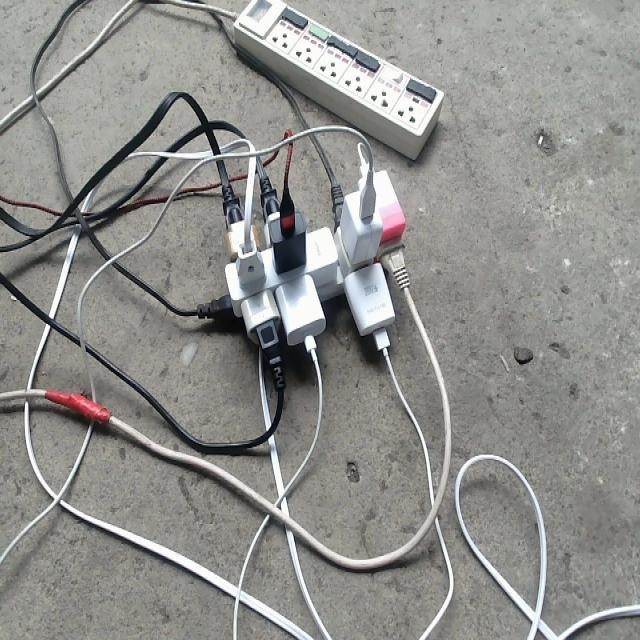-: (213, 158, 406, 358)
